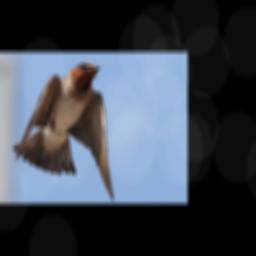Swallow: (13, 62, 114, 202)
